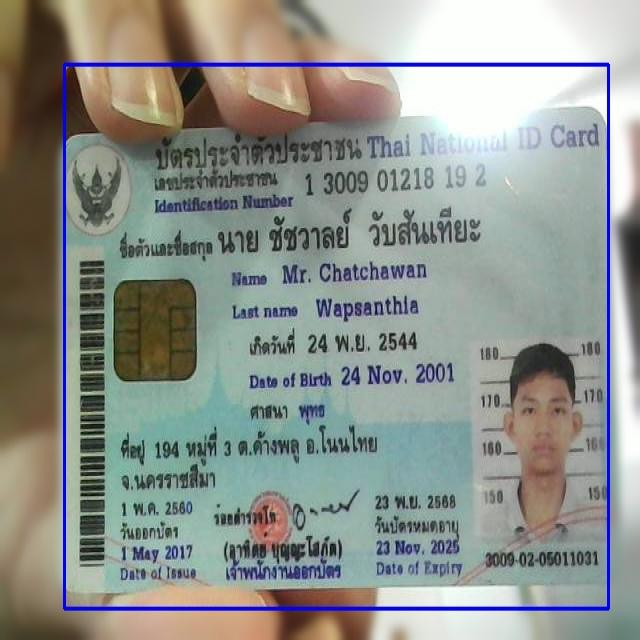Address_th: (117, 421, 388, 495)
Date_of_Birth: (338, 359, 458, 393)
Date_of_Expiry: (373, 537, 464, 560)
Date_of_Issue: (120, 541, 198, 563)
First_Name: (279, 258, 430, 288)
ID_Number: (302, 160, 492, 199)
Image: (471, 339, 605, 545)
Last_Name: (312, 291, 422, 325)
Thai_Name: (216, 205, 487, 260)
